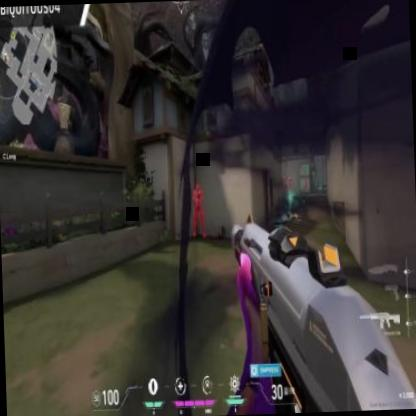enemy: (191, 184, 206, 242), (304, 176, 310, 193), (283, 177, 288, 194), (288, 176, 292, 190)
enemy_head: (196, 184, 200, 192), (283, 177, 287, 182), (305, 177, 307, 181), (289, 175, 290, 179)
